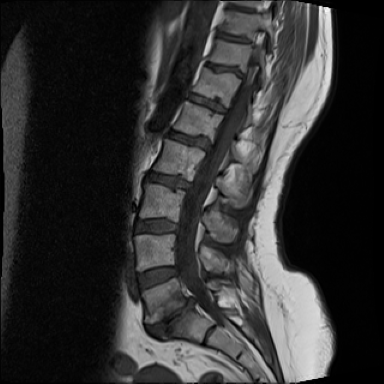Degenerative Disc Disease (DDD): (197, 56, 251, 84), (210, 26, 258, 48), (219, 3, 268, 18)
Lumbar Disc Bulge (LDB): (138, 291, 203, 349)
Normal IVD: (131, 257, 183, 296), (158, 125, 217, 156), (141, 166, 197, 195), (128, 215, 184, 244), (180, 89, 232, 119)
Spinal Stenosis (SS): (182, 290, 202, 318)
